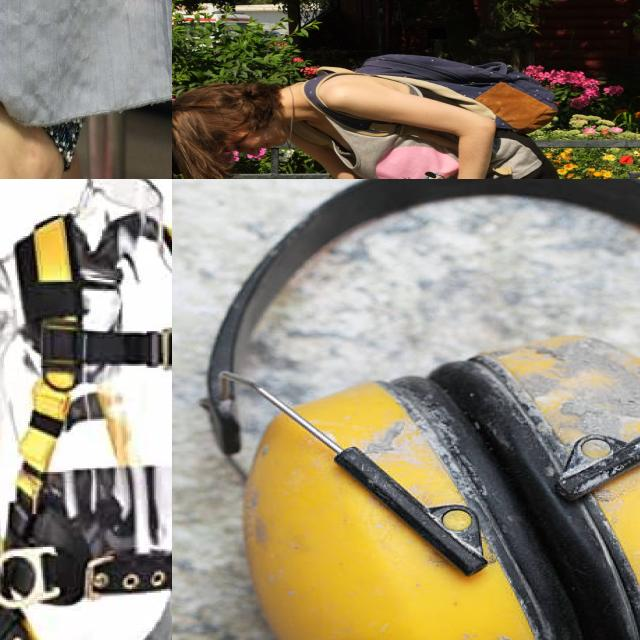Ear-protection: (181, 179, 640, 640)
Harness: (0, 215, 172, 640)
